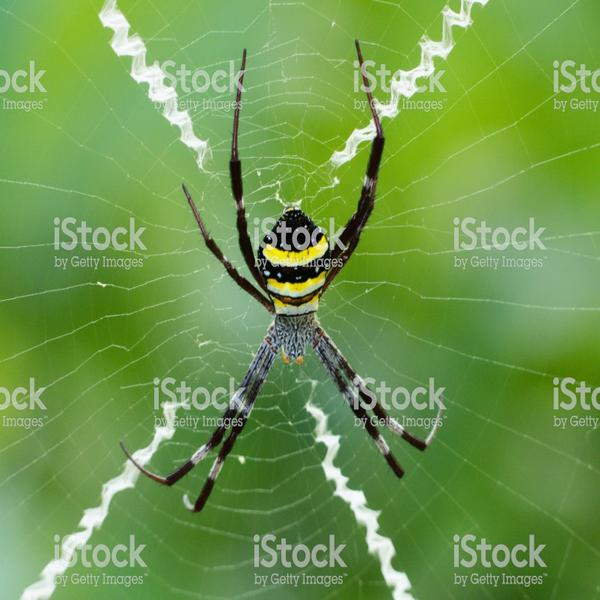St Andrew's Cross Spider: (133, 44, 434, 491)
